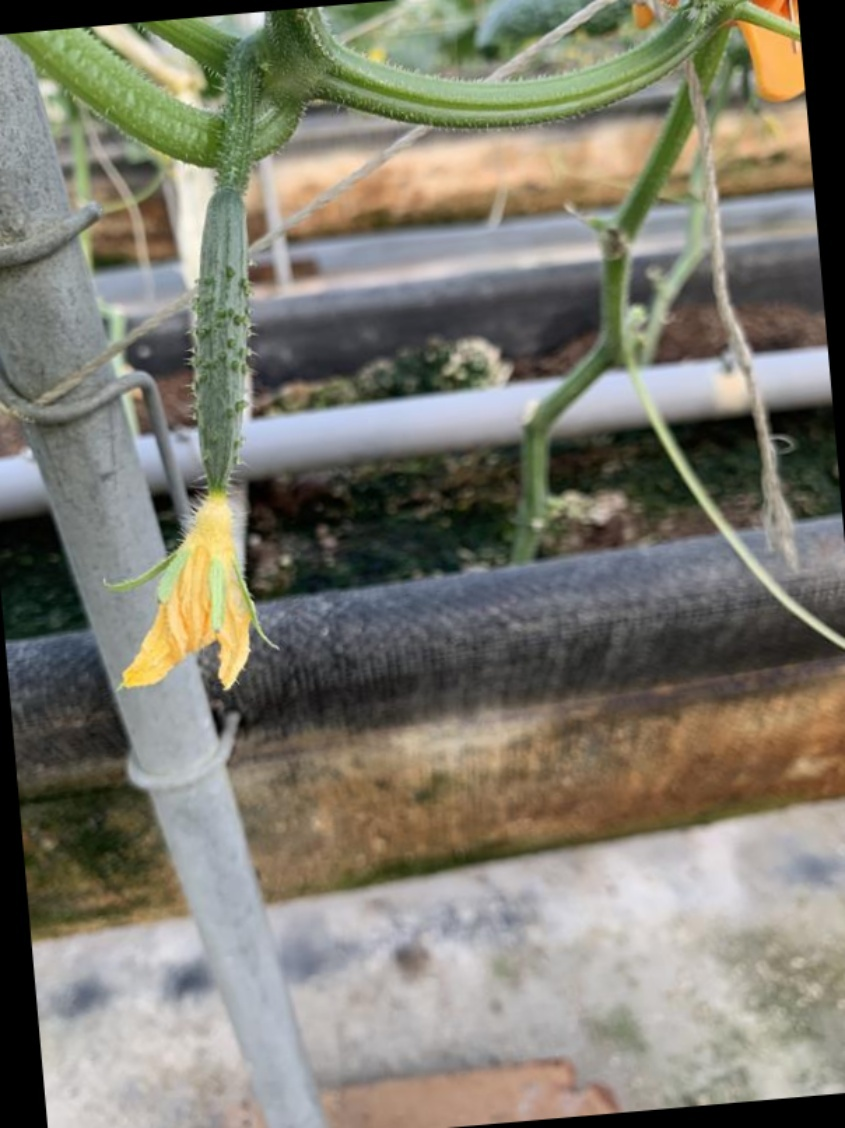bear: (90, 174, 303, 693)
